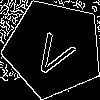V: (29, 23, 82, 80)
